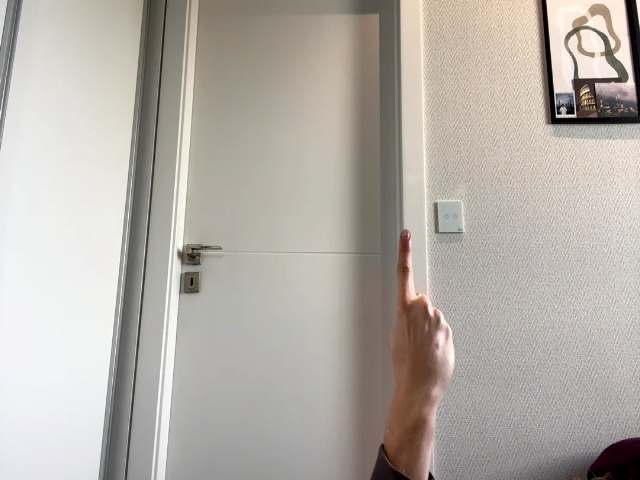D: (389, 230, 455, 413)
